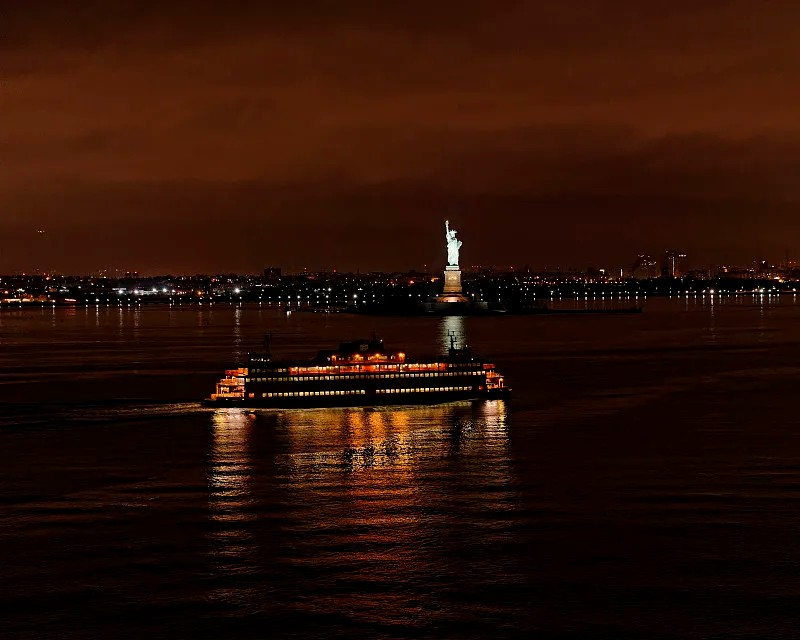SL: (443, 219, 463, 295)
